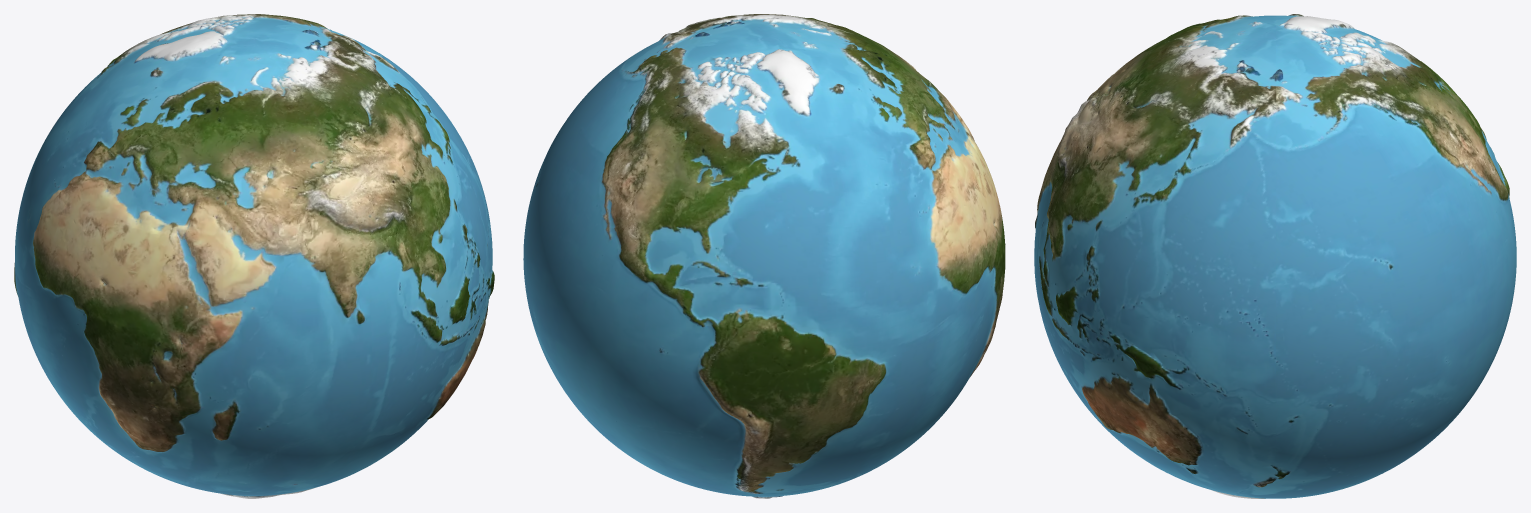
The model's file is earth.glb.
The picture shows the model from 3 angles, left to right: view 1: azimuth 30°, elevation 25°; view 2: azimuth 150°, elevation 25°; view 3: azimuth 270°, elevation 25°; orthographic projection.
Visible parts, largest first — view 1: globe.2; view 2: globe.2; view 3: globe.2.
Boxes of the visible parts, x1,y1,x2,y2 form: globe.2: (14,14,494,498); globe.2: (523,14,1005,498); globe.2: (1034,14,1516,498).
Size of the model in its own units: 0.1998 by 0.2032 by 0.1996.
1 material, 1 textured.
